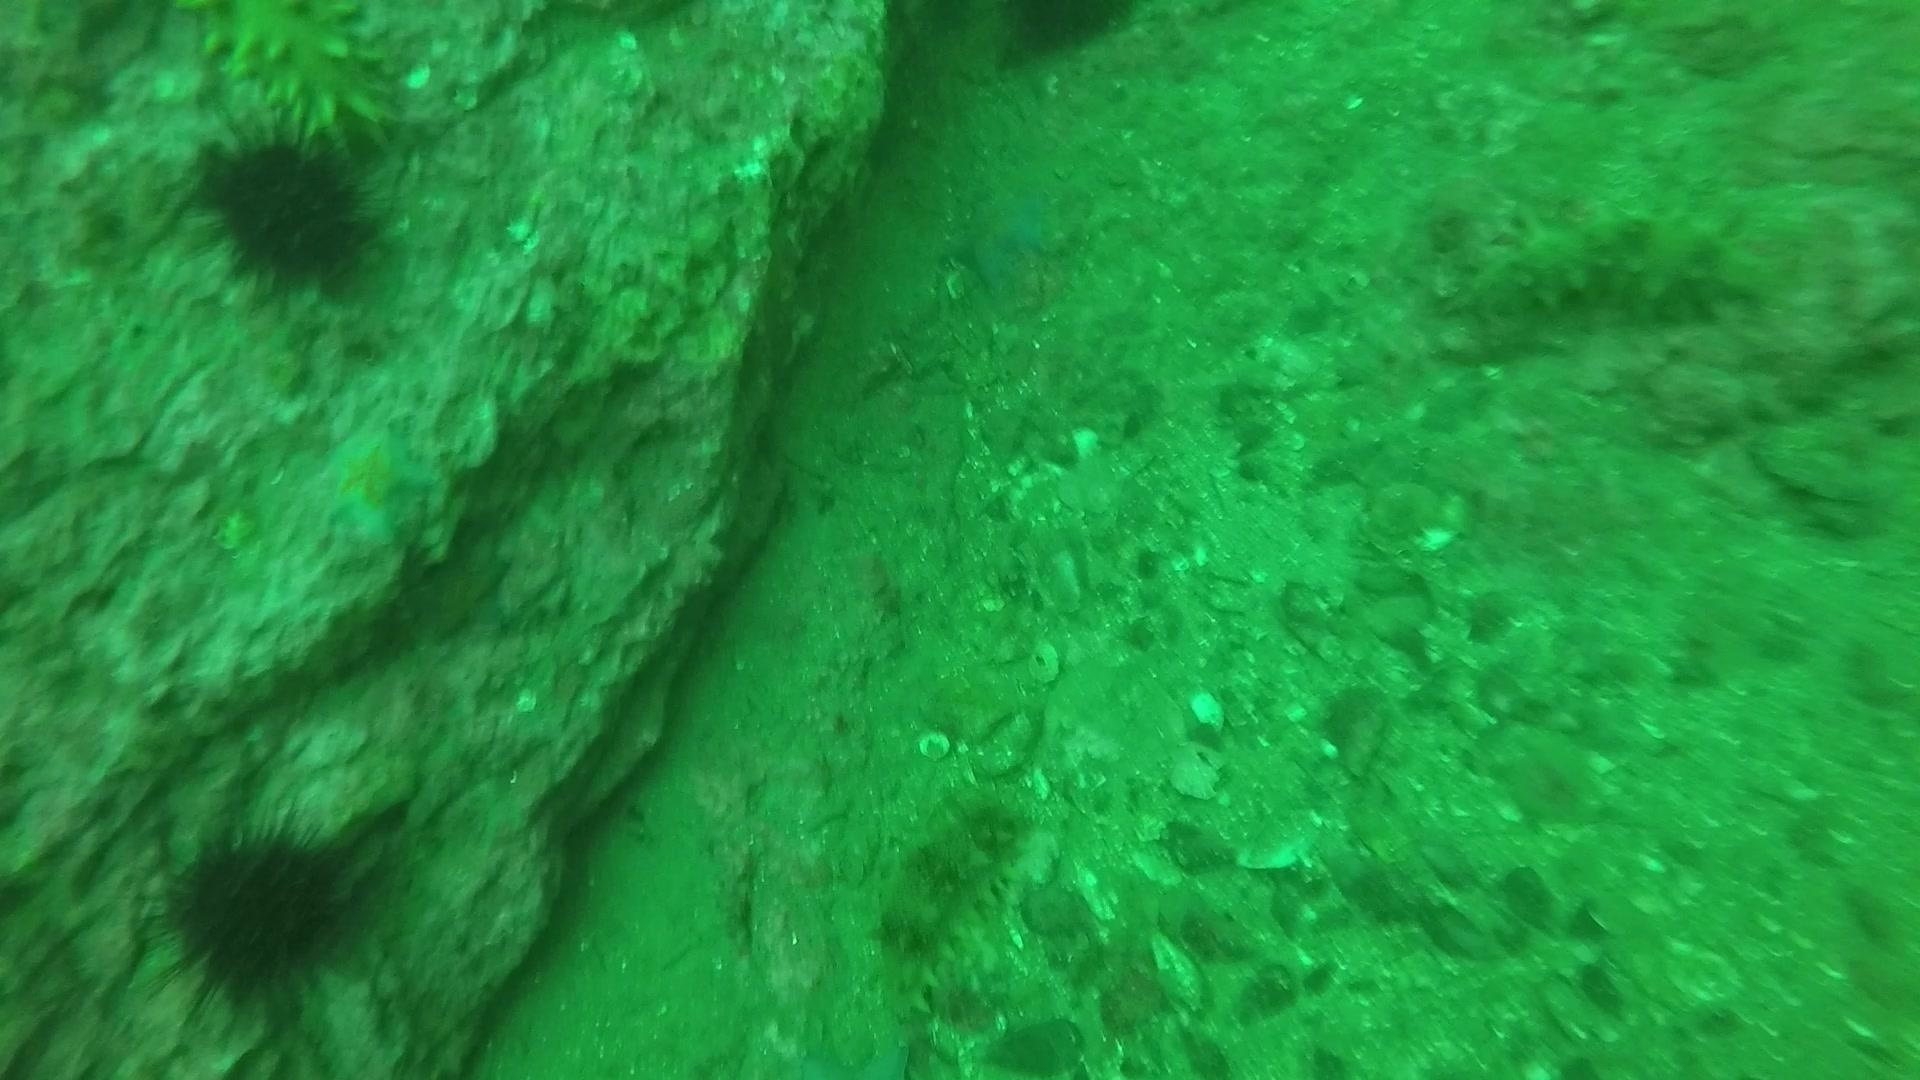echinus: (146, 810, 375, 1011), (185, 108, 388, 301), (984, 1, 1143, 70)
holothurian: (858, 781, 1038, 1034), (1443, 196, 1766, 334), (173, 1, 415, 157)
starfish: (302, 414, 442, 549), (942, 169, 1069, 297), (400, 538, 518, 647)
